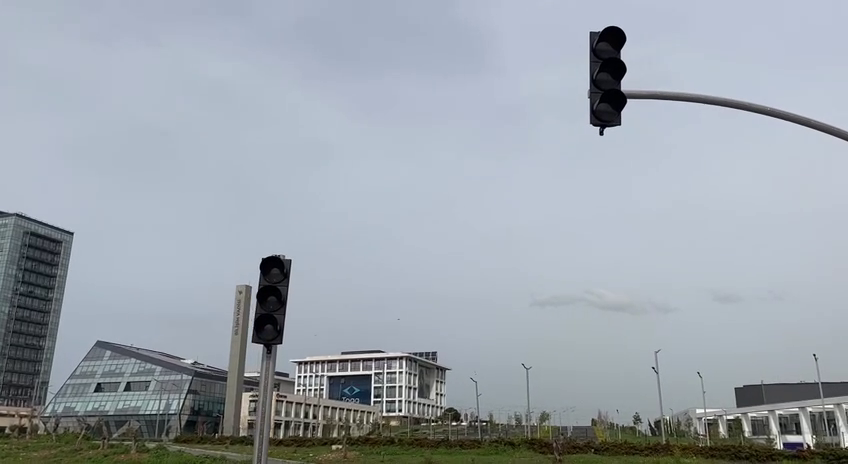trafficLight: (585, 20, 631, 139), (249, 252, 297, 353)
